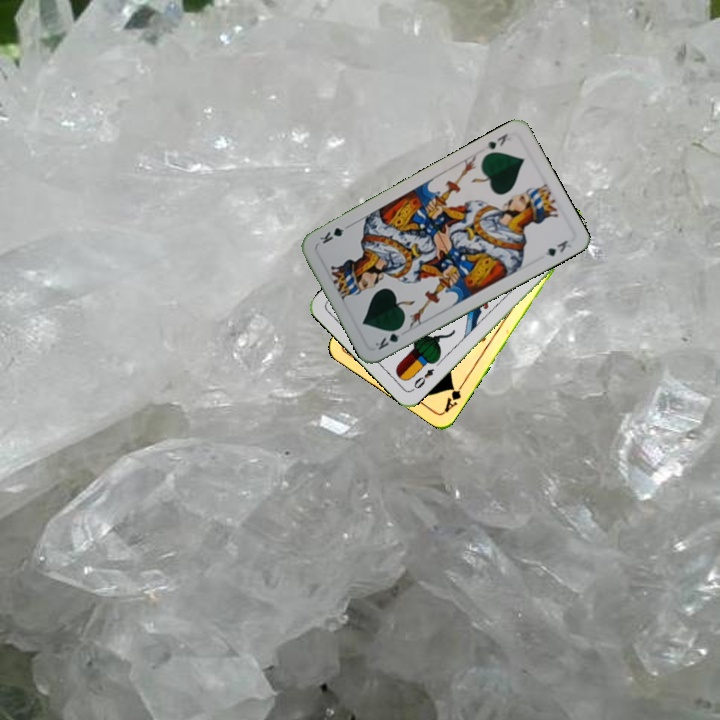EO: (408, 364, 437, 393)
GA: (440, 378, 467, 415)
GK: (371, 322, 406, 352), (481, 129, 513, 152)
